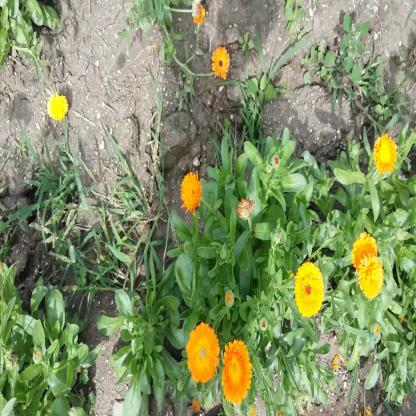marigold: (221, 342, 252, 404), (187, 322, 218, 384), (294, 263, 324, 317), (357, 257, 383, 302), (375, 133, 398, 174), (350, 235, 378, 268), (181, 172, 203, 208), (212, 44, 230, 78), (49, 92, 67, 122)
